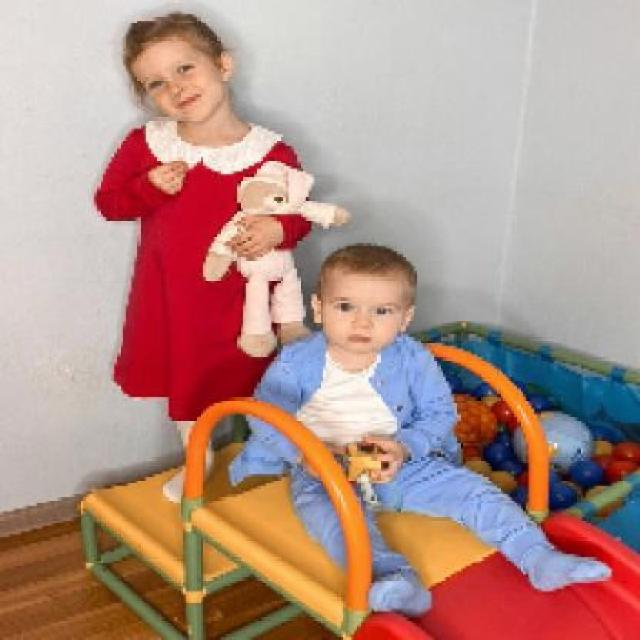child: (226, 241, 612, 616), (88, 8, 312, 503)
